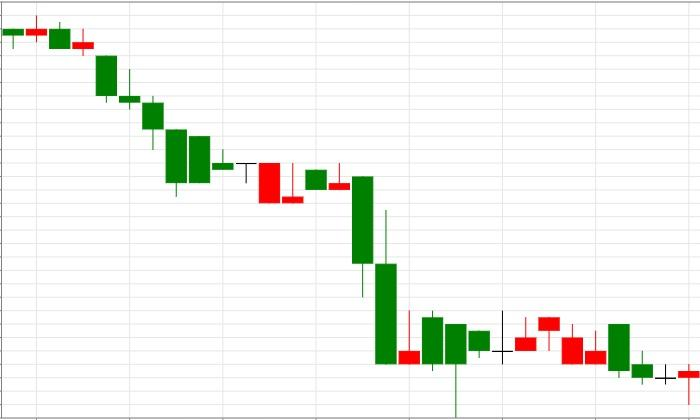hammer_rise: (305, 163, 467, 417)
